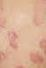plaque psoriasis: (32, 0, 46, 27), (28, 50, 44, 65), (0, 0, 7, 32), (8, 33, 19, 51), (41, 31, 46, 51), (0, 49, 5, 61), (14, 63, 25, 68)
